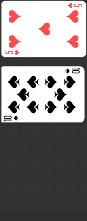10C: (3, 114, 20, 121)
4H: (5, 48, 21, 55)
